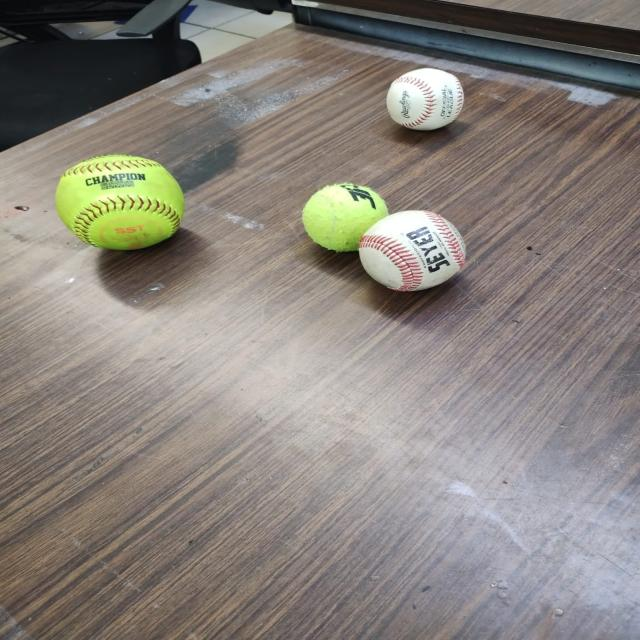beisbol ball: (357, 210, 467, 291), (386, 68, 464, 130)
softball ball: (51, 152, 188, 253)
tenis ball: (300, 181, 389, 252)
